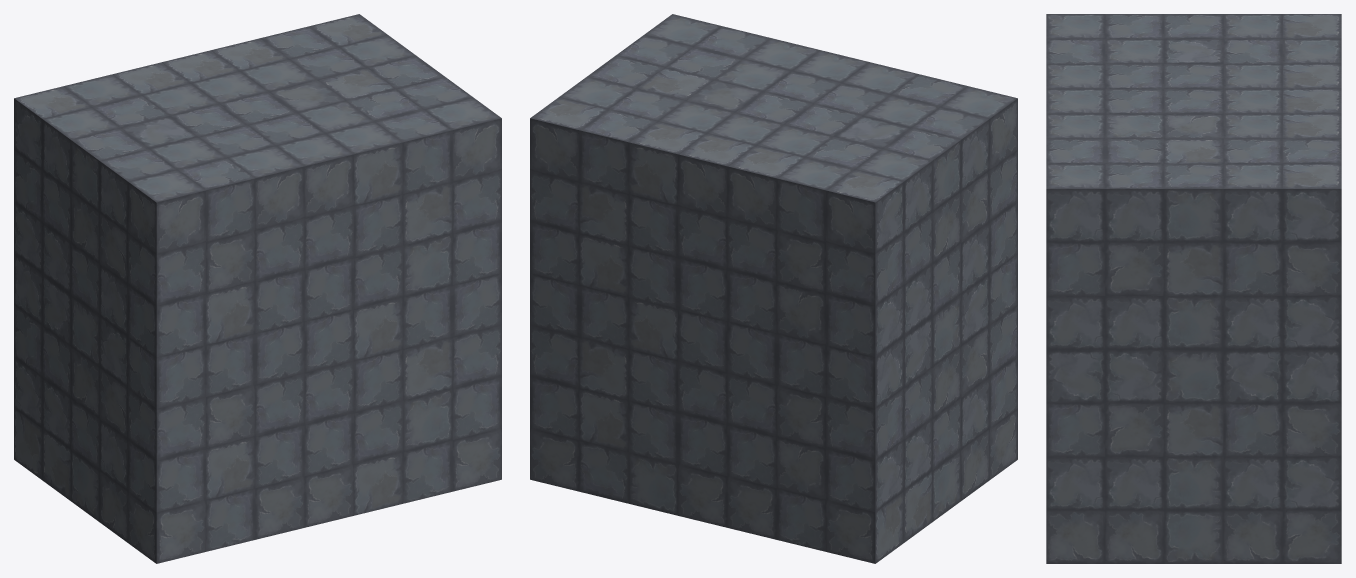
File: Castle Block 7x5x7.fbx
3 views of the same model, side by side, from view 1: azimuth 30°, elevation 25°; view 2: azimuth 150°, elevation 25°; view 3: azimuth 270°, elevation 25° (orthographic). The views are drawn at different scales.
Visible parts, largest first — view 1: Castle Block 7x5x7; view 2: Castle Block 7x5x7; view 3: Castle Block 7x5x7.
Part boxes in pixels (bbox=[...]): Castle Block 7x5x7: bbox=[14, 14, 501, 563]; Castle Block 7x5x7: bbox=[530, 14, 1017, 563]; Castle Block 7x5x7: bbox=[1046, 14, 1341, 563].
Size of the model in its own units: 5.25 by 5.25 by 3.75.
